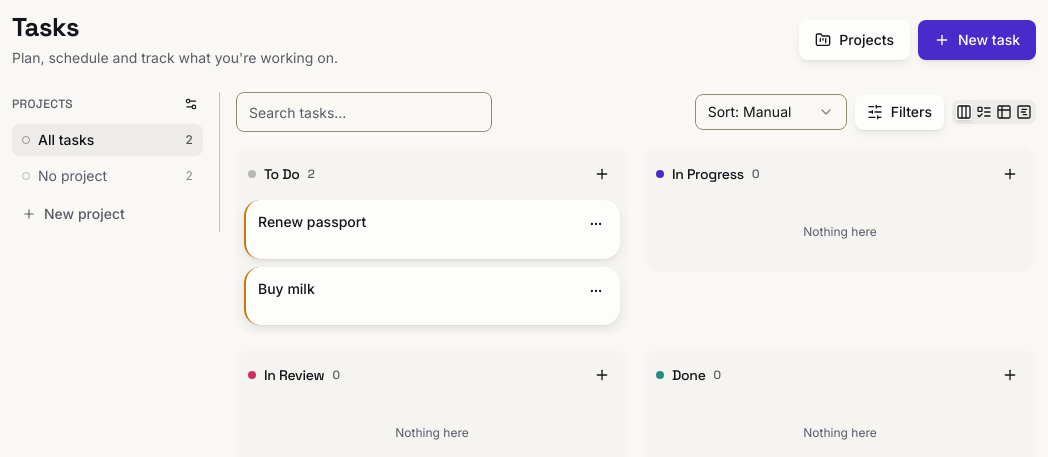
it: TasksPage › searches across titles
In the search field labelled "Search tasks": {"x": 364, "y": 112} [236,92,492,132], type "passport"
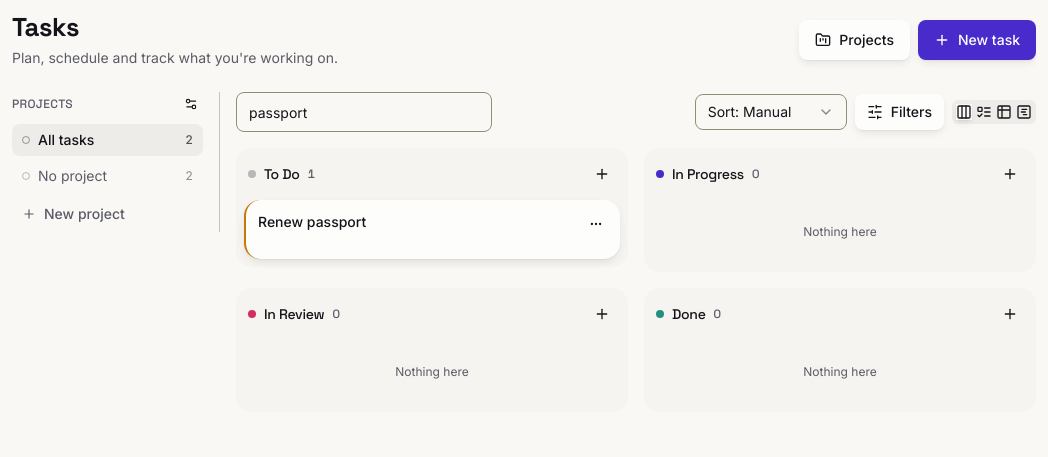
Expected: the button labelled "Renew passport" is shown, [244,200,620,259]
Result: the button labelled "Buy milk" is gone
